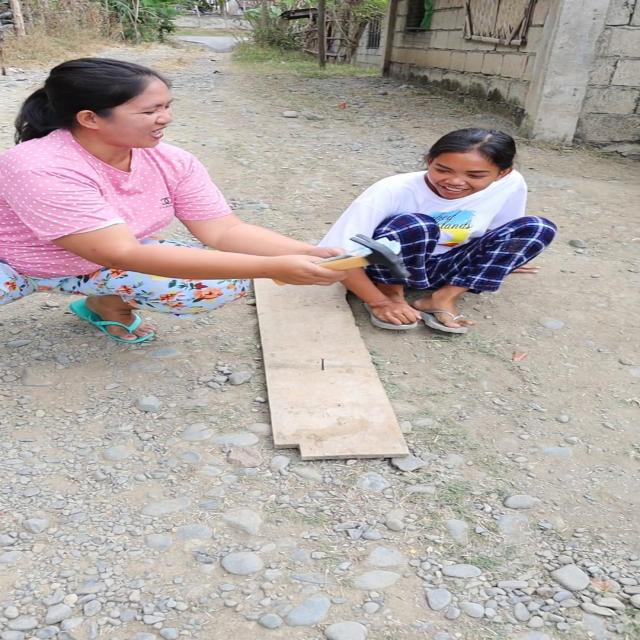hammer: (270, 234, 416, 284)
